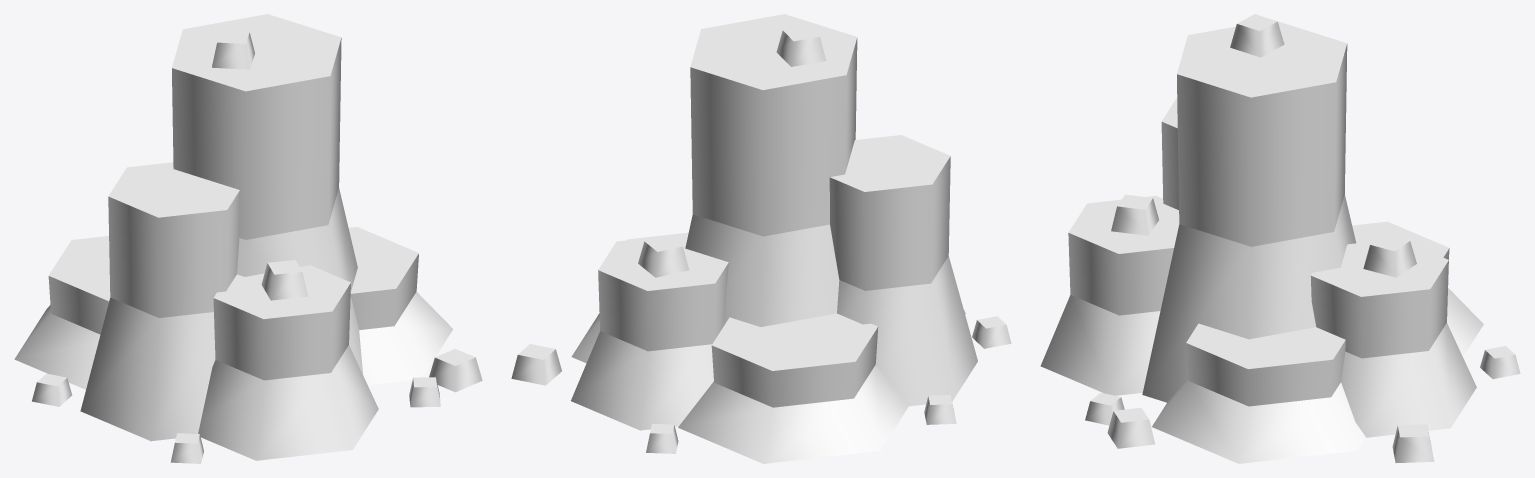
The model's file is rocks-b.glb.
3 views of the same model, side by side, from view 1: azimuth 30°, elevation 25°; view 2: azimuth 150°, elevation 25°; view 3: azimuth 270°, elevation 25° (orthographic). The views are drawn at different scales.
Parts seen in each view (by area): view 1: rocks-b; view 2: rocks-b; view 3: rocks-b.
Part boxes in pixels (x1,y1,x2,y2): rocks-b: (14,14,482,463); rocks-b: (511,14,1011,463); rocks-b: (1040,14,1520,463).
Bounding box in the file's own units: 4.44 × 3.65 × 4.7.
Materials: 1 (1 with a texture image).
